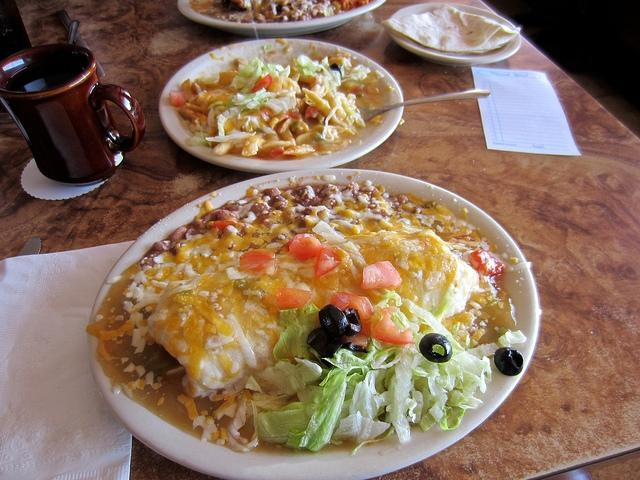lettuce: (402, 299, 482, 378), (284, 366, 348, 451), (272, 304, 330, 370), (390, 345, 422, 443), (258, 402, 310, 444), (322, 336, 376, 374), (349, 368, 388, 420), (230, 57, 268, 93), (419, 394, 448, 433), (292, 55, 322, 78), (206, 132, 256, 143), (428, 375, 448, 395), (207, 108, 218, 132), (253, 92, 277, 101)
tomato: (330, 292, 375, 319), (362, 260, 402, 289), (314, 243, 342, 280), (470, 249, 504, 277), (286, 234, 322, 259), (276, 288, 312, 310), (240, 250, 276, 272), (213, 220, 246, 234), (250, 74, 272, 93), (304, 106, 324, 125), (170, 90, 187, 108), (270, 146, 284, 158)
